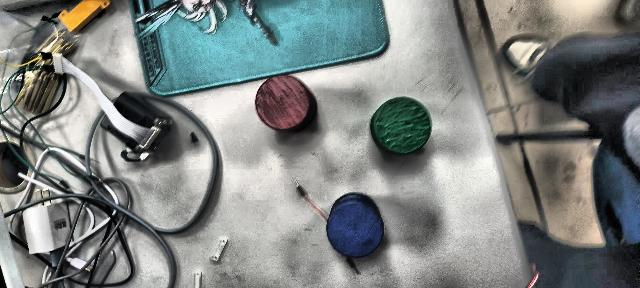blue: (325, 194, 397, 262)
green: (364, 96, 438, 160)
red: (249, 74, 323, 136)
